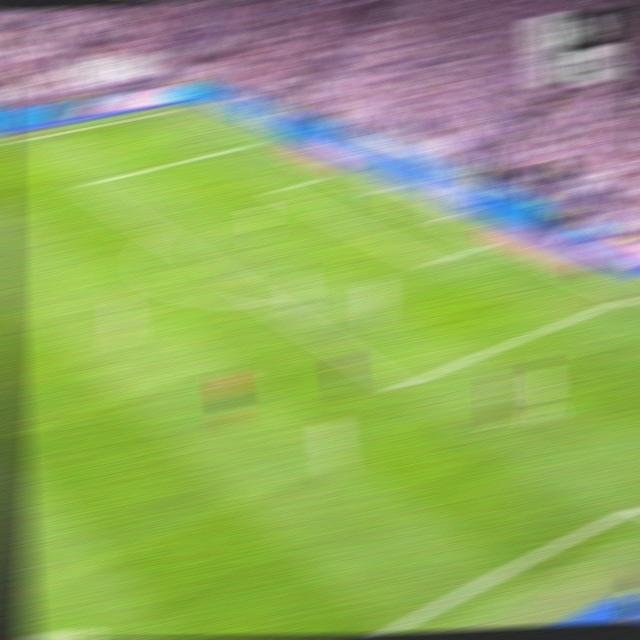bigarea_bottom_inner: (386, 374, 411, 398)
bigarea_bottom_outter: (612, 288, 636, 304)
bigarea_top_inner: (70, 177, 92, 192)
bigarea_top_outter: (249, 135, 269, 145)
bottom_arc_area_intersection: (253, 293, 278, 310)
corner: (171, 102, 194, 112)
smallarea_bottom_inner: (417, 254, 441, 272)
smallarea_top_inner: (269, 184, 288, 194)
top_arc_area_intersection: (145, 224, 167, 240)
